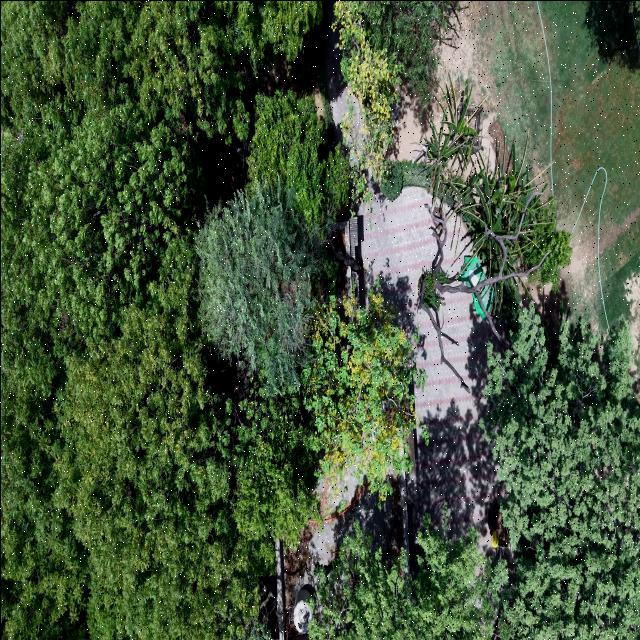DRY_AREA: (359, 187, 502, 549), (359, 187, 502, 548), (361, 187, 500, 545), (540, 1, 639, 326)
VEGETATION_TREE: (1, 1, 451, 639), (1, 2, 320, 639), (308, 305, 639, 639), (481, 304, 639, 639), (416, 81, 570, 389), (416, 81, 570, 386), (196, 91, 346, 394), (417, 82, 570, 289), (196, 182, 321, 394), (302, 290, 422, 499), (332, 1, 457, 198), (308, 510, 490, 639), (318, 295, 413, 485), (226, 384, 318, 548), (247, 91, 347, 231), (332, 1, 399, 198), (362, 1, 457, 107), (228, 1, 321, 66), (520, 204, 571, 290), (380, 160, 430, 200), (390, 160, 431, 192), (380, 163, 402, 200), (627, 1, 639, 41)
